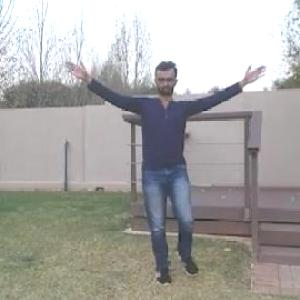takeoff: (63, 54, 270, 282)
